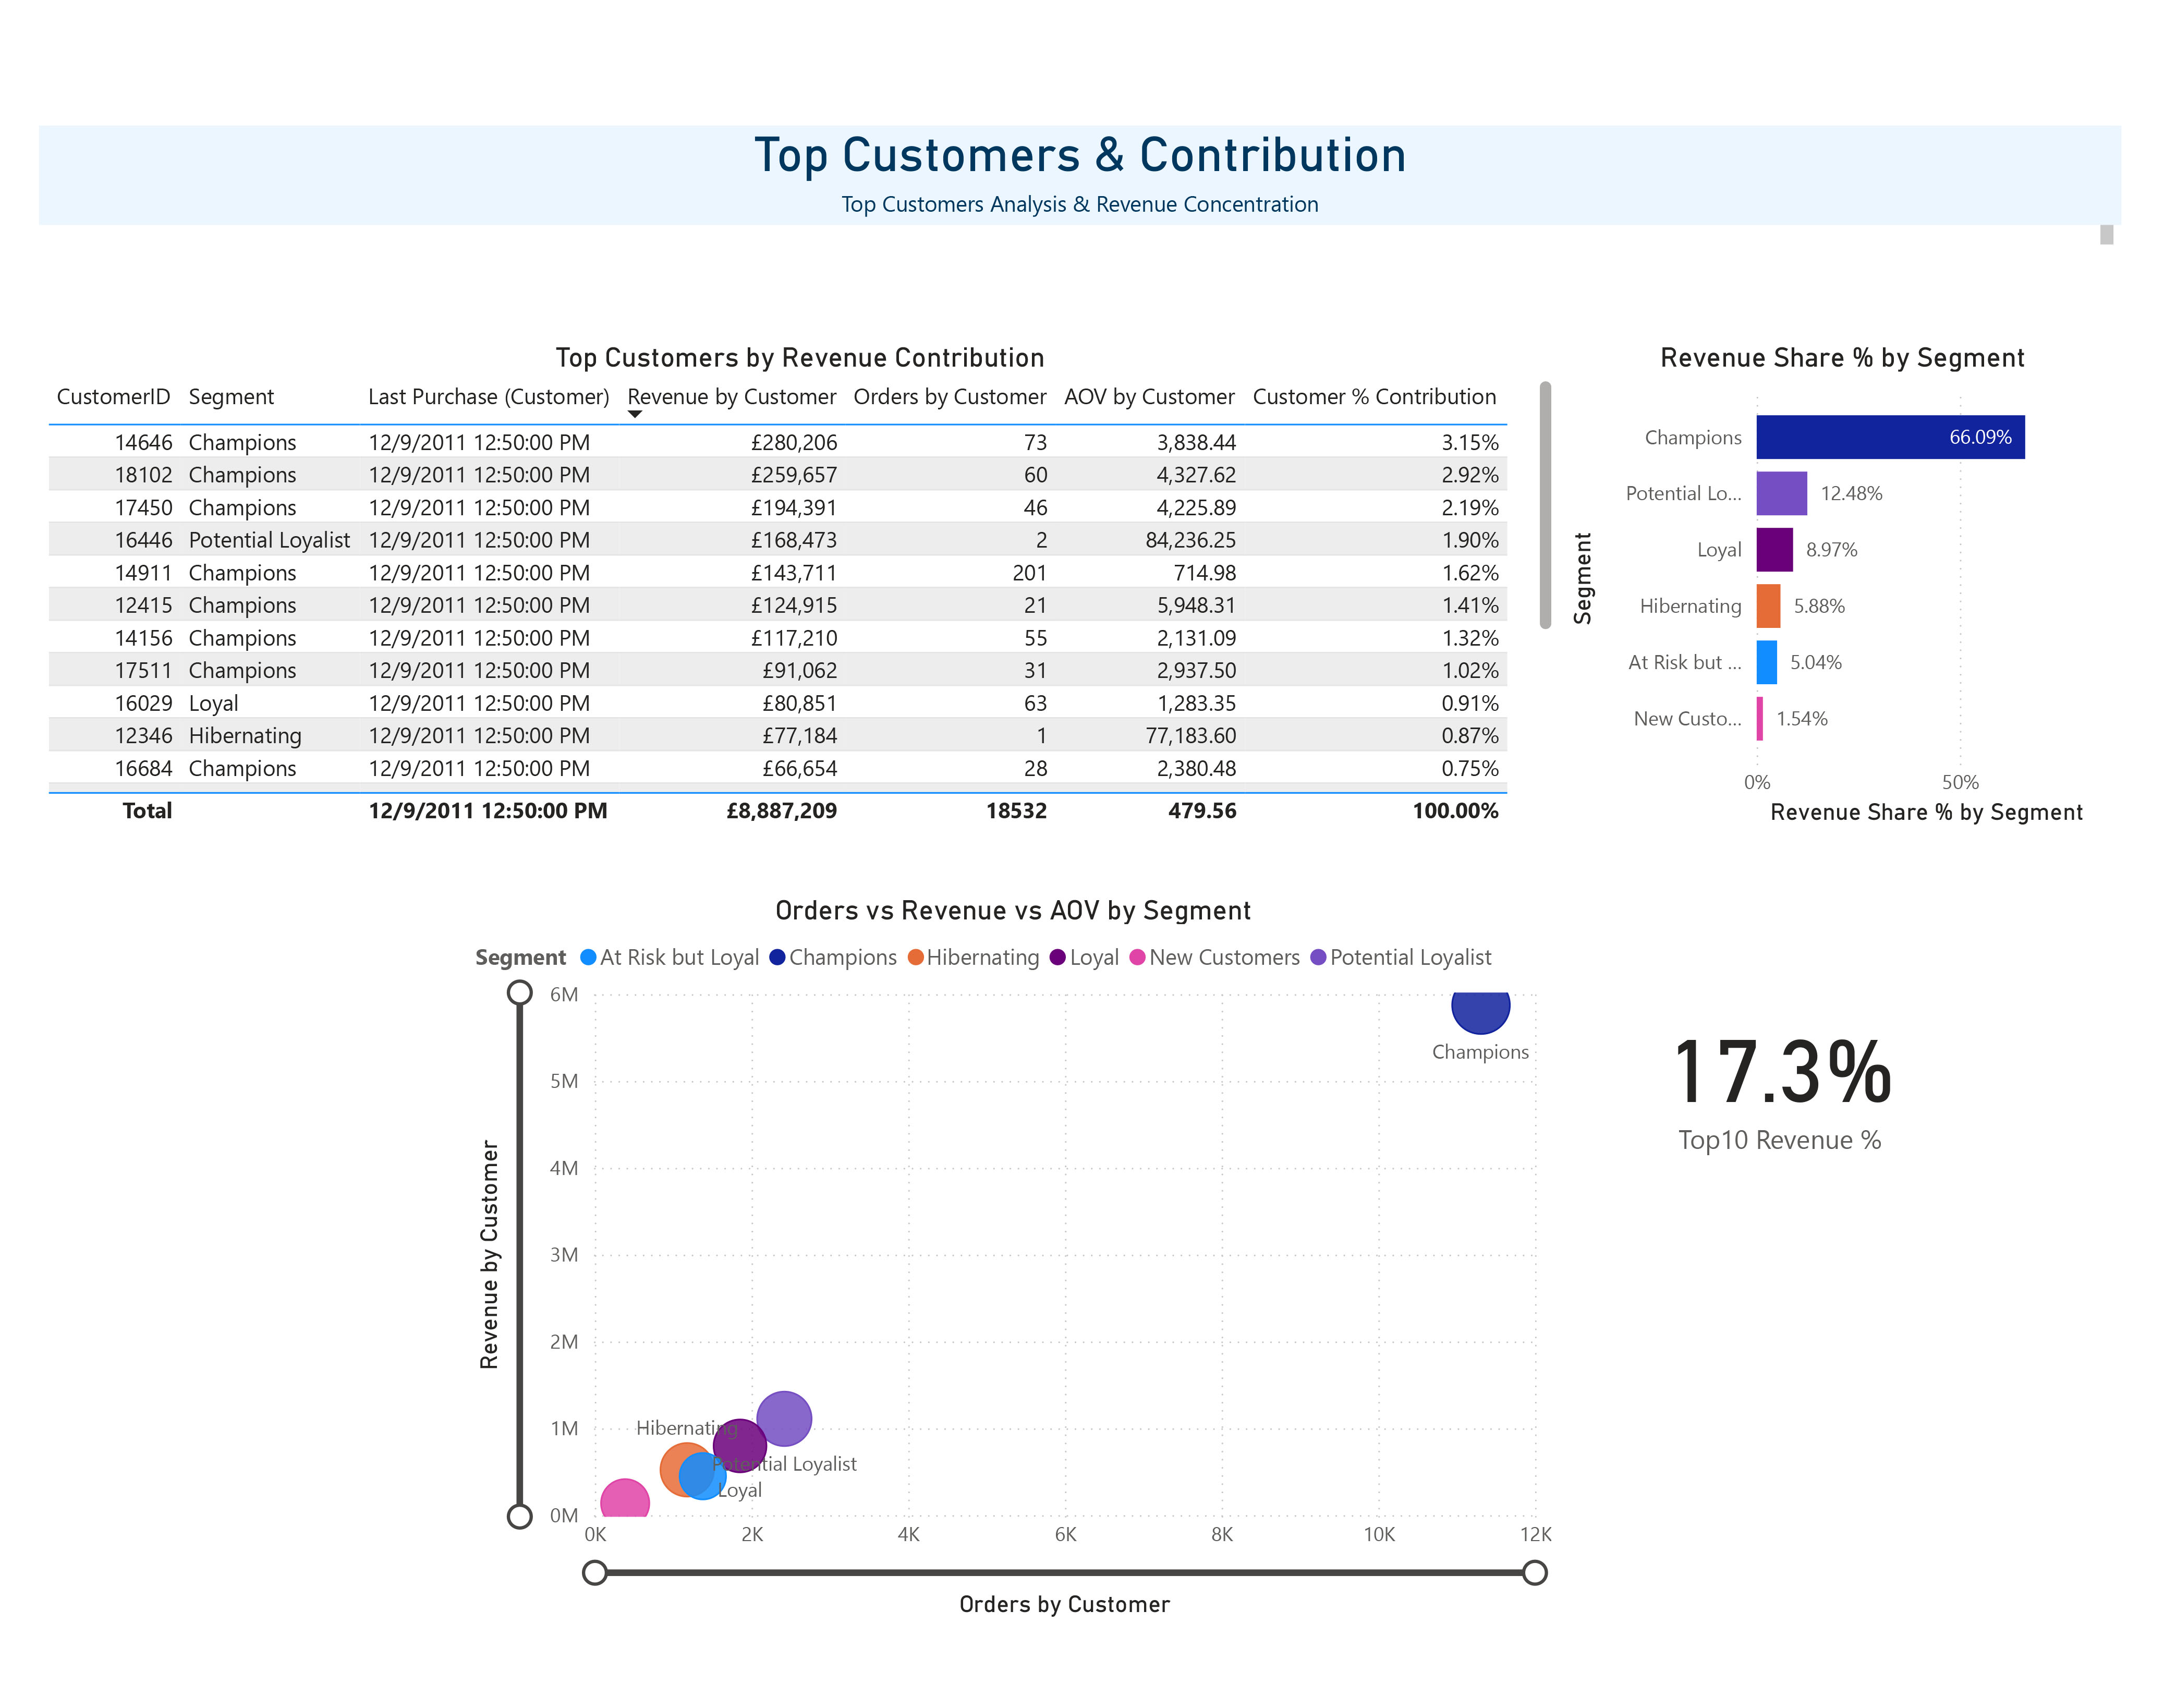

The page's visual inventory and layout, read from the dashboard file:
{"tool":"powerbi","page":{"name":"Page 3","canvas":[1280,1000],"ordinal":2},"visuals":[{"type":"tableEx","title":"Top Customers by Revenue Contribution","fields":{"Values":["rfm_scores.CustomerID","rfm_scores.Segment","_Measures.Last Purchase (Customer)","_Measures.Revenue by Customer","_Measures.Orders by Customer","_Measures.AOV by Customer","_Measures.Customer % Contribution"]},"box":[0,184.8,934,302.4],"z":0},{"type":"barChart","title":"Revenue Share % by Segment","fields":{"Category":["rfm_scores.Segment"],"Y":["_Measures.Revenue Share % by Segment"]},"box":[934,184.8,346,302.4],"z":1},{"type":"scatterChart","title":"Orders vs Revenue vs AOV by Segment","fields":{"X":["_Measures.Orders by Customer"],"Y":["_Measures.Revenue by Customer"],"Size":["_Measures.AOV by Customer"],"Series":["rfm_scores.Segment"]},"box":[262.7,523.5,670.6,449],"z":2},{"type":"card","fields":{"Values":["_Measures.Top10 Revenue %"]},"box":[933.3,523.5,270.6,225.5],"z":3},{"type":"textbox","title":"Top Customers & Contribution","box":[0,52.9,1278.4,78.4],"z":4}]}

Visuals, with their boxes in screenshot pixels (x1, y1, x2, y2):
"Top Customers by Revenue Contribution" tableEx: detection(39, 340, 1561, 833)
"Revenue Share % by Segment" barChart: detection(1561, 340, 2125, 833)
"Orders vs Revenue vs AOV by Segment" scatterChart: detection(467, 892, 1560, 1624)
card - _Measures.Top10 Revenue %: detection(1560, 892, 2001, 1260)
"Top Customers & Contribution" textbox: detection(39, 125, 2122, 253)
